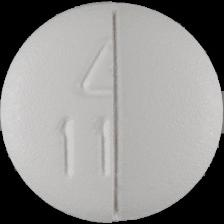63739-366: (0, 0, 224, 224)
